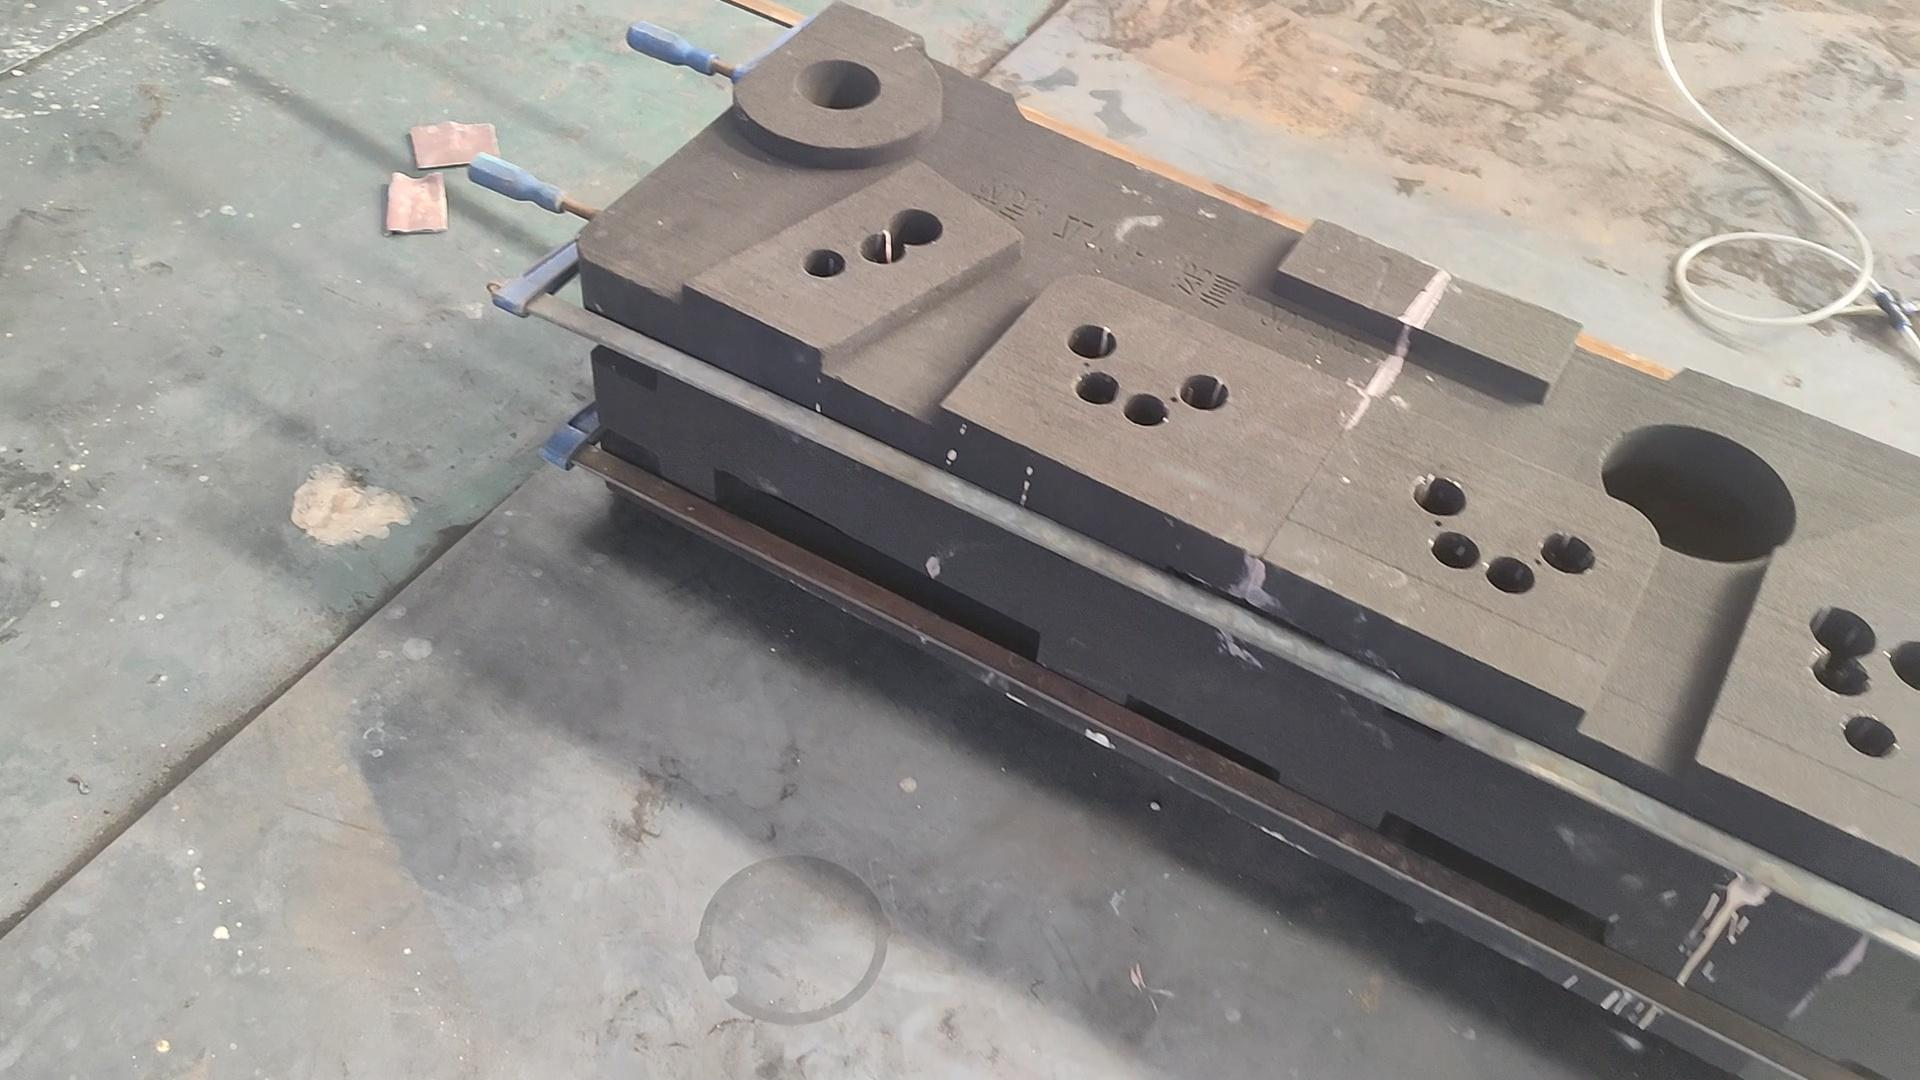pouring hole: (796, 59, 881, 109)
